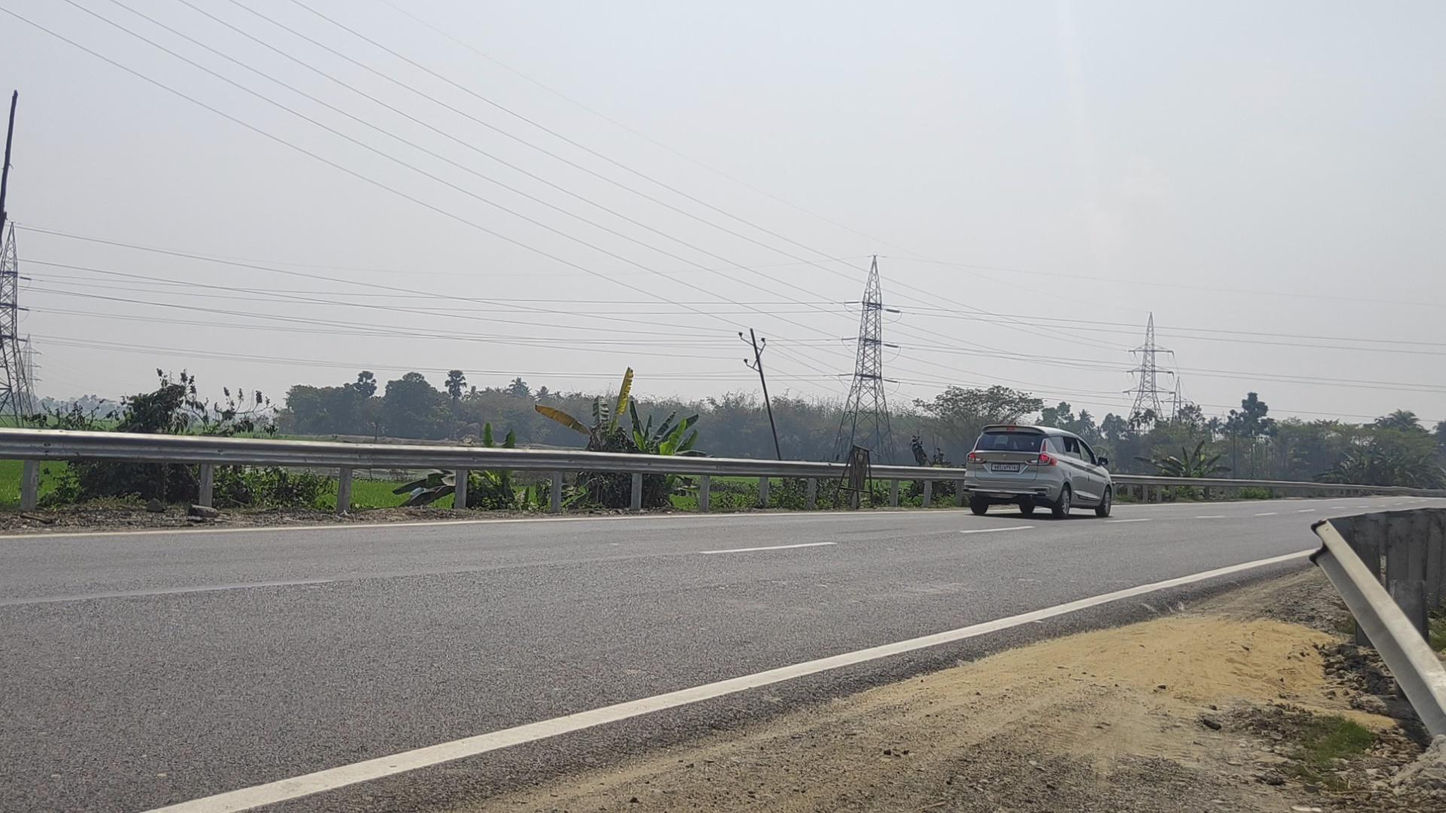car: (962, 422, 1116, 520)
